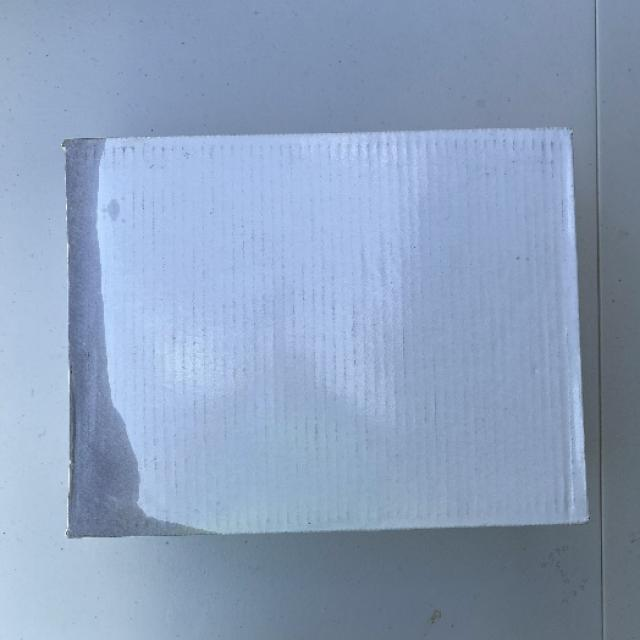kertas: (43, 125, 606, 568)
